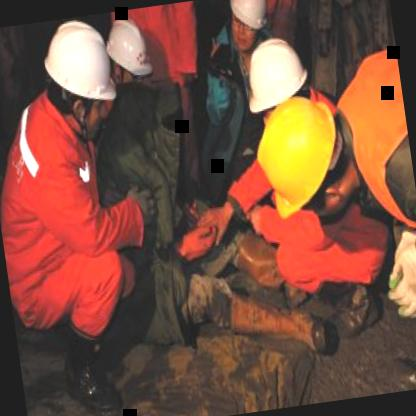helmet: (242, 76, 364, 240), (38, 12, 126, 138), (232, 28, 317, 133), (100, 13, 158, 92), (227, 0, 273, 48)
